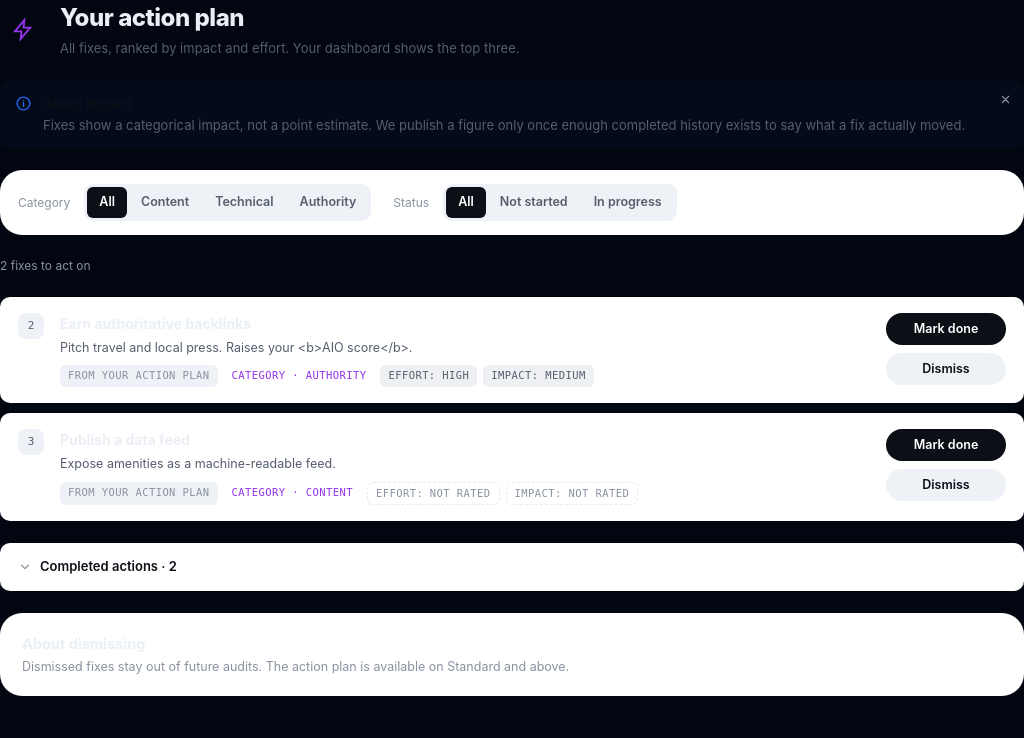
Test: fixes page › sends a completed action back to the active list without deleting it
Click the button with test id "fix-history-completed-trigger" at (108, 566), box [0, 543, 1023, 591]
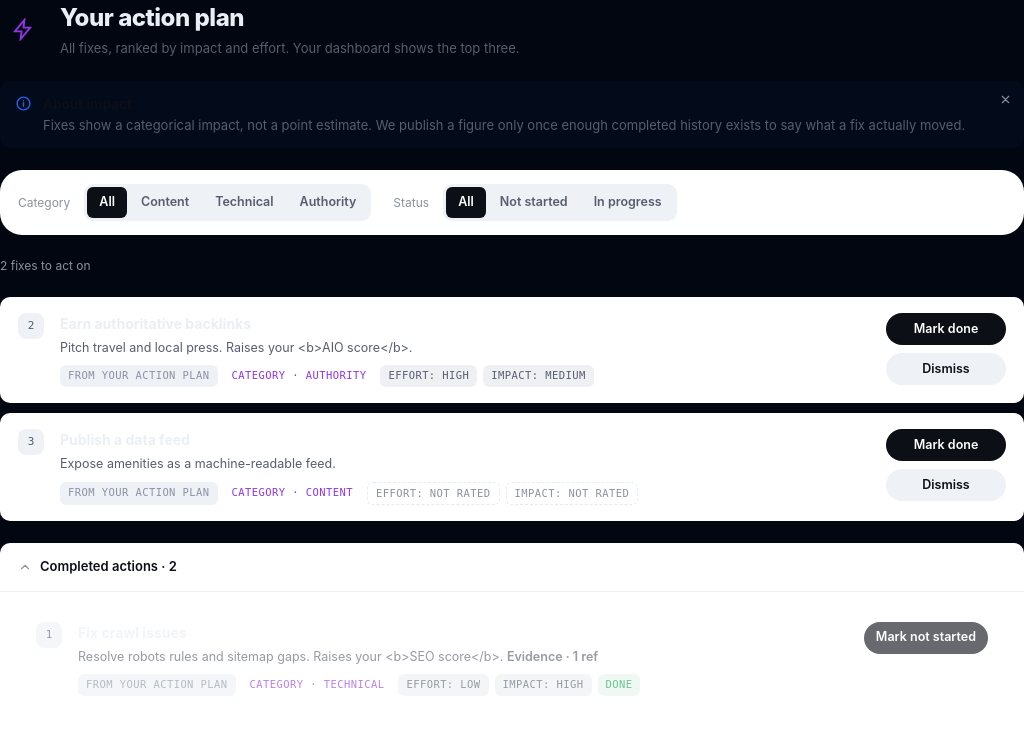
Click the button "Mark not started" in the row of "Evidence · 1 ref" at (926, 638), box [864, 622, 988, 654]
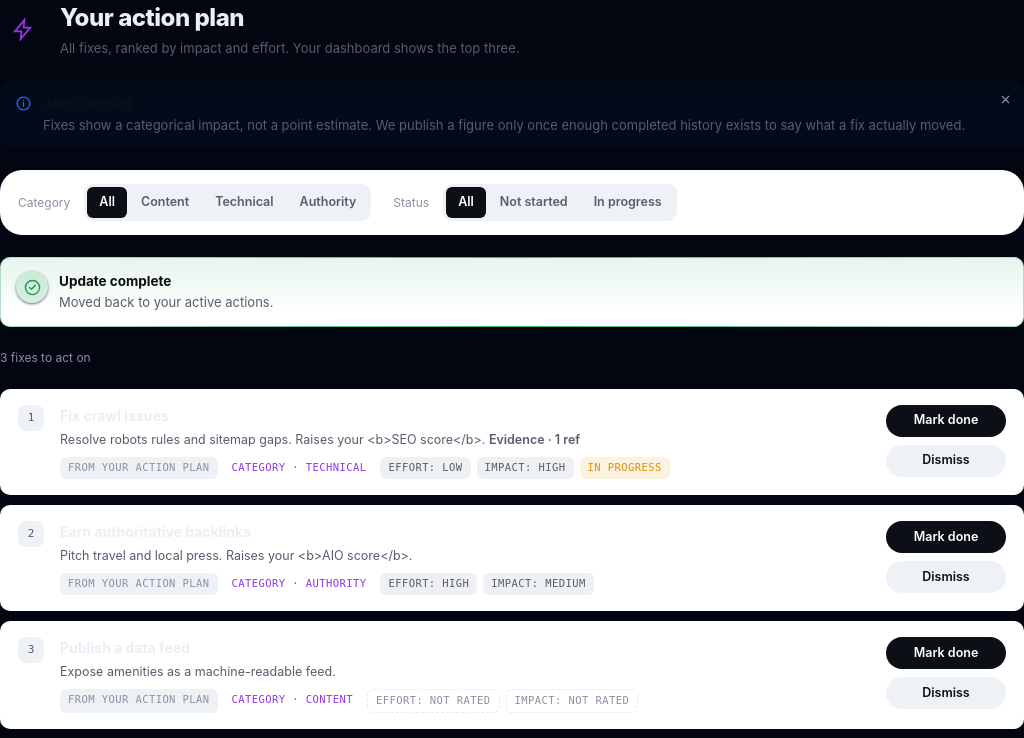
Expected: the text "Moved back to your active actions." is shown, [59, 294, 273, 310]
